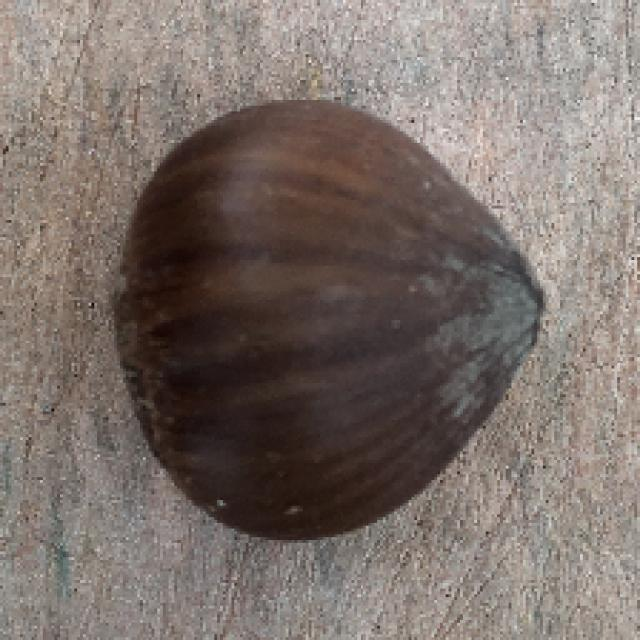DamagedHazelnut: (113, 98, 547, 548)
